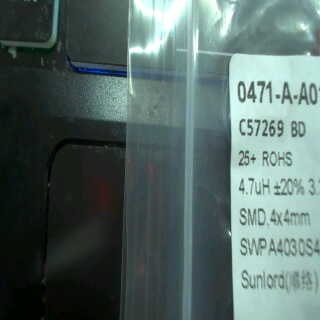4.7uH: (235, 174, 273, 194)
